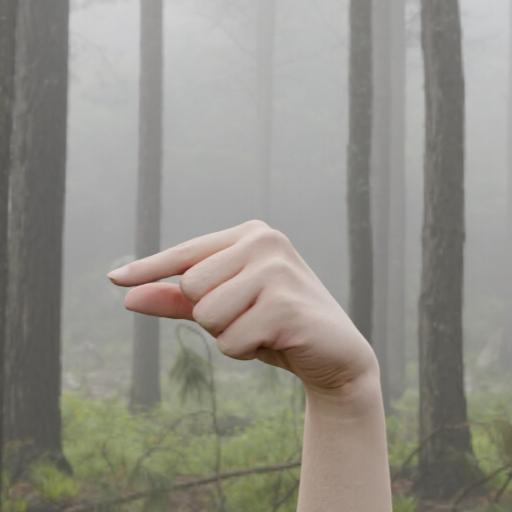G: (100, 208, 415, 438)
